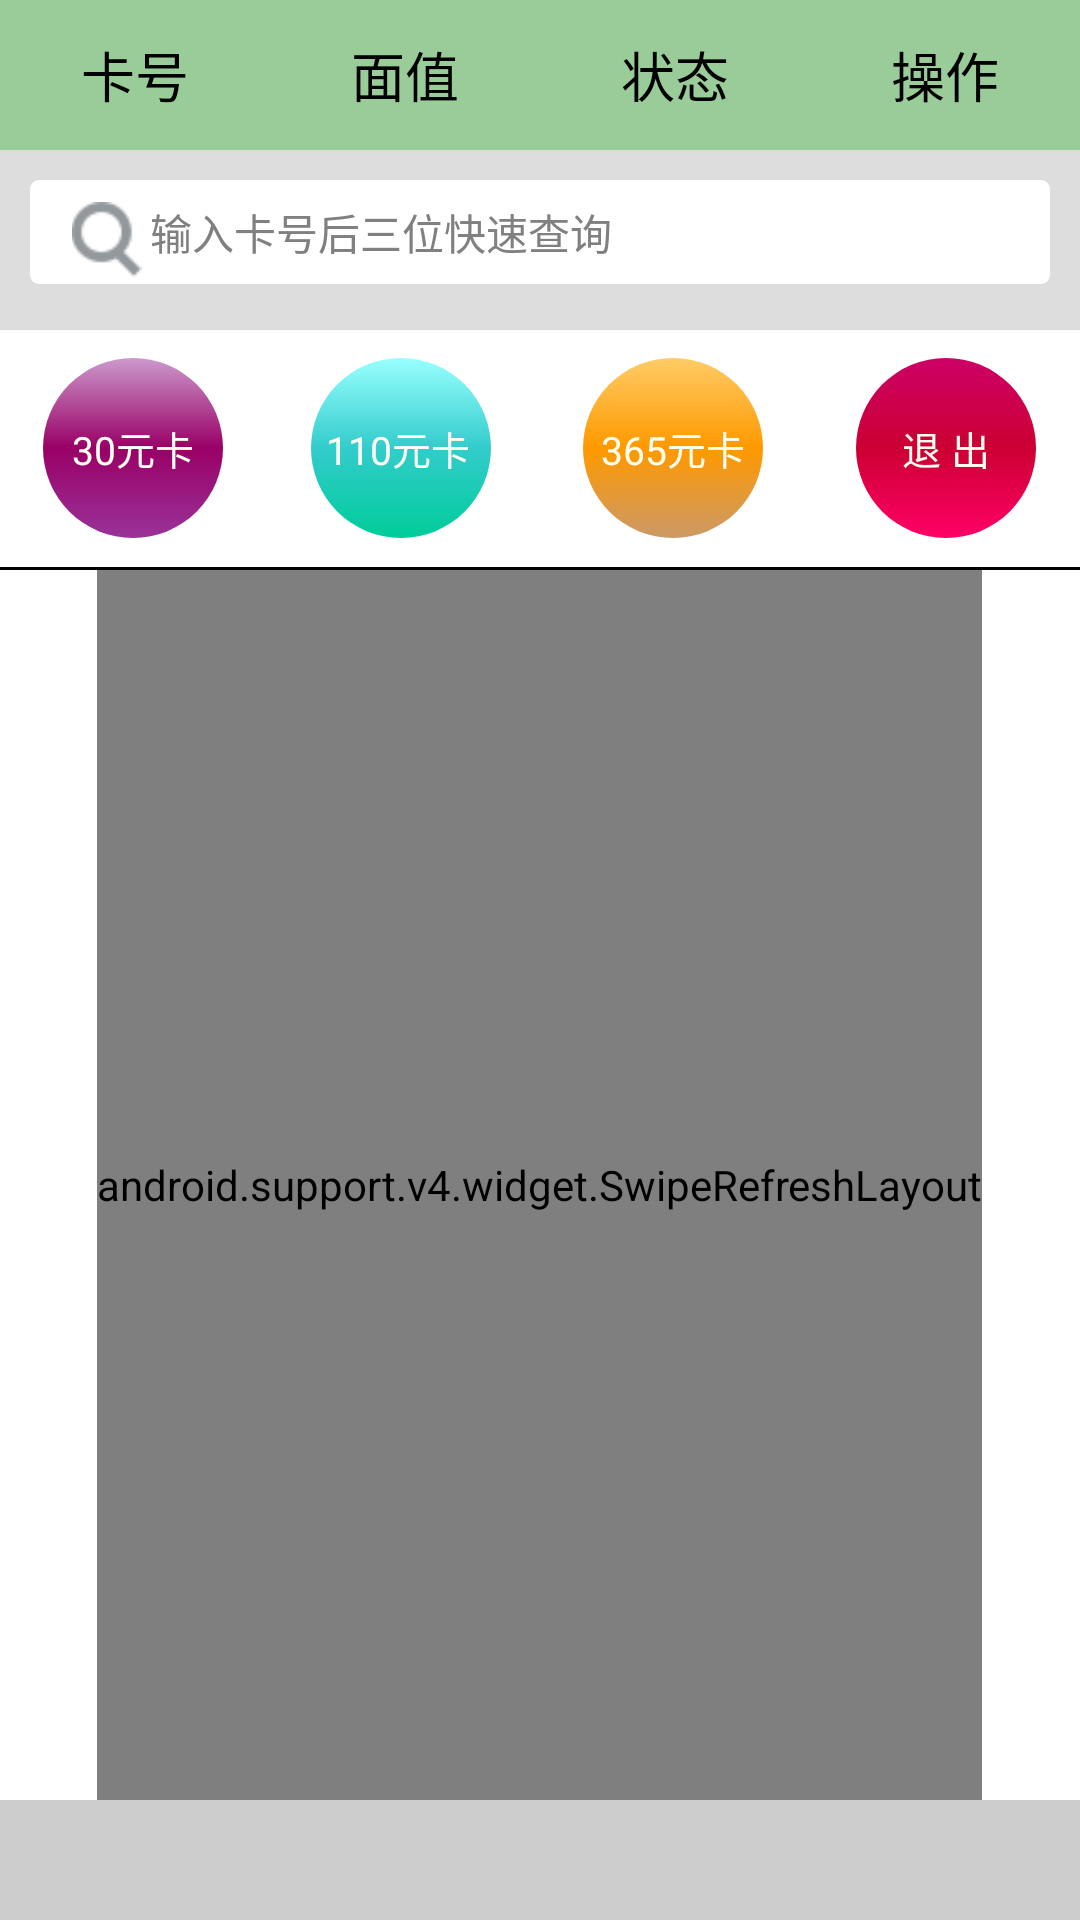

Icon click points for this 1080px×1920px phone screenshot, format point (x, y):
top search: point (107, 239)
